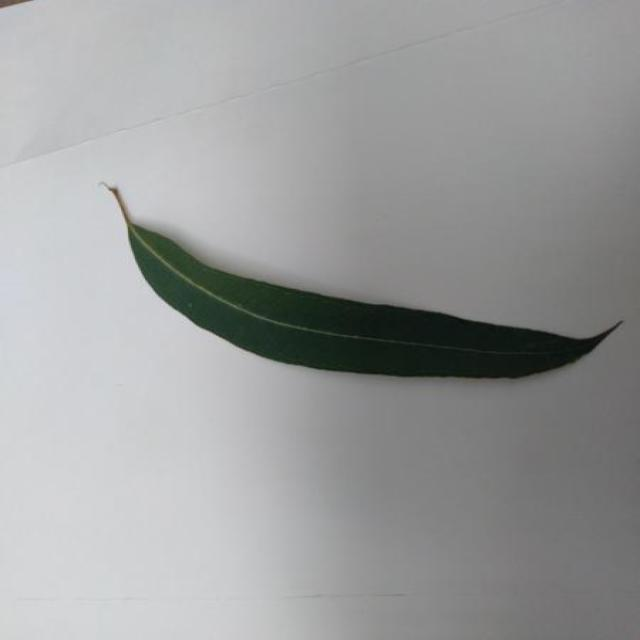eucalpytus: (107, 187, 620, 377)
